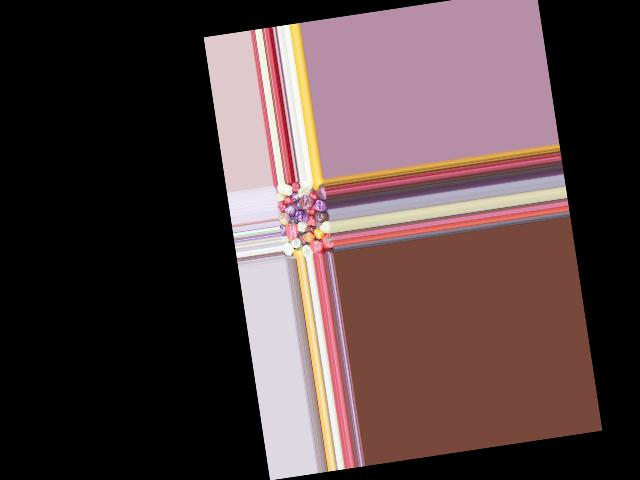bell_pepper: (302, 242, 313, 257)
